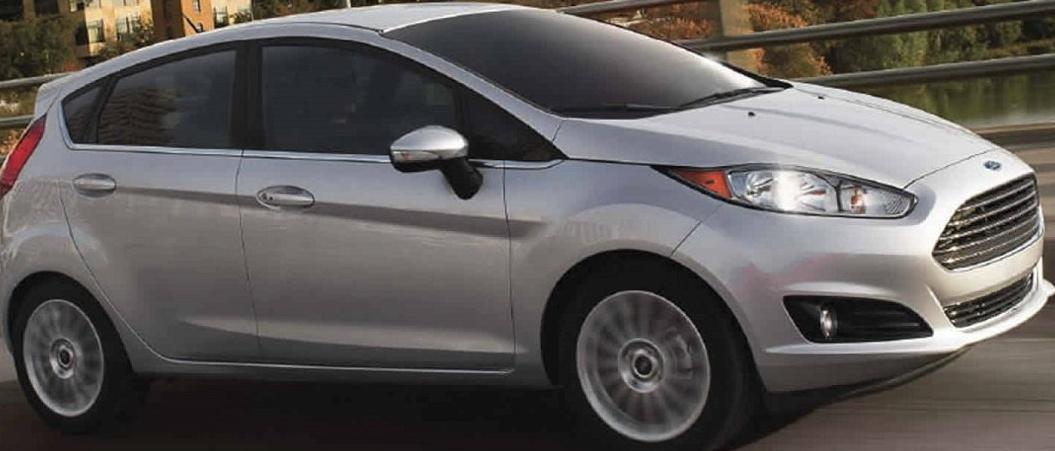Cars: (0, 4, 1053, 447)
